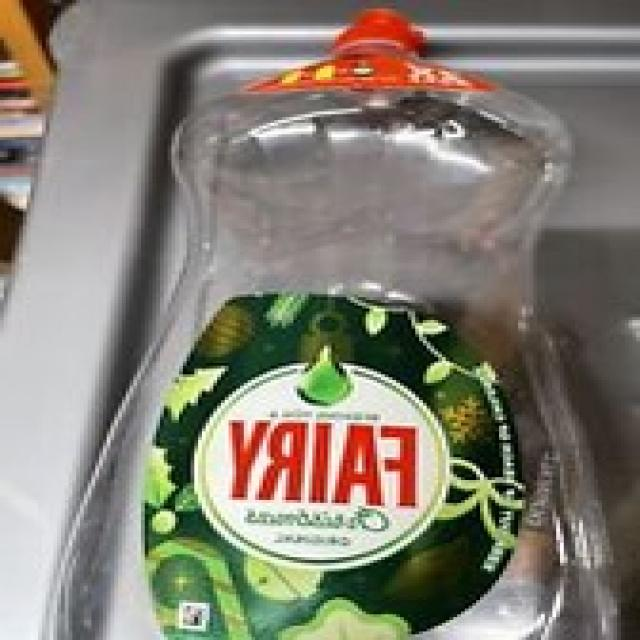plastic: (45, 13, 574, 640)
